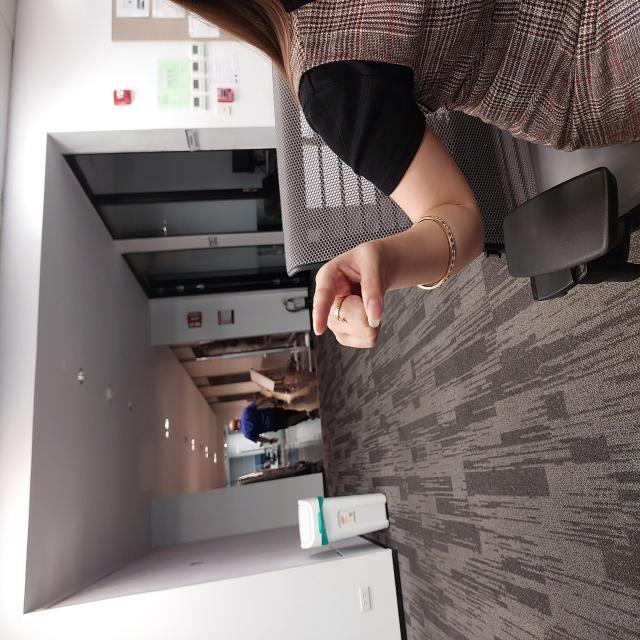Z: (290, 310, 402, 390)
